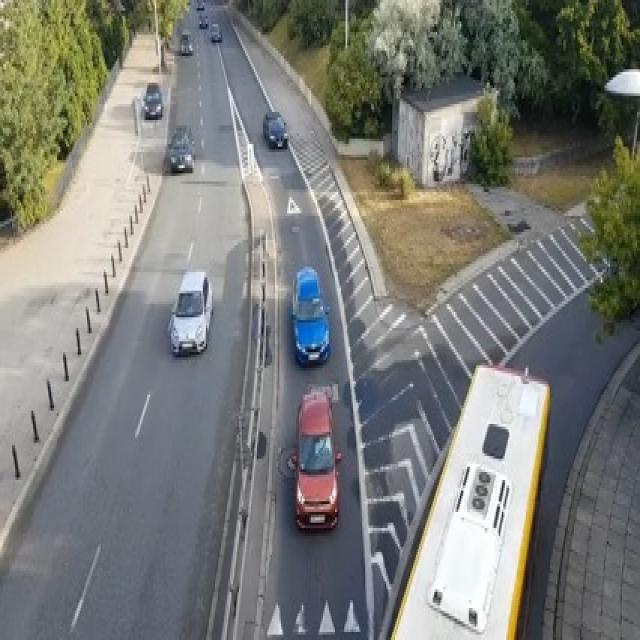bus: (383, 360, 550, 637)
car: (287, 389, 341, 531), (290, 267, 330, 365), (167, 269, 212, 355), (167, 125, 194, 171), (262, 109, 288, 147), (141, 80, 162, 117), (179, 30, 192, 54), (210, 21, 221, 40), (198, 13, 208, 27), (196, 0, 204, 11)
